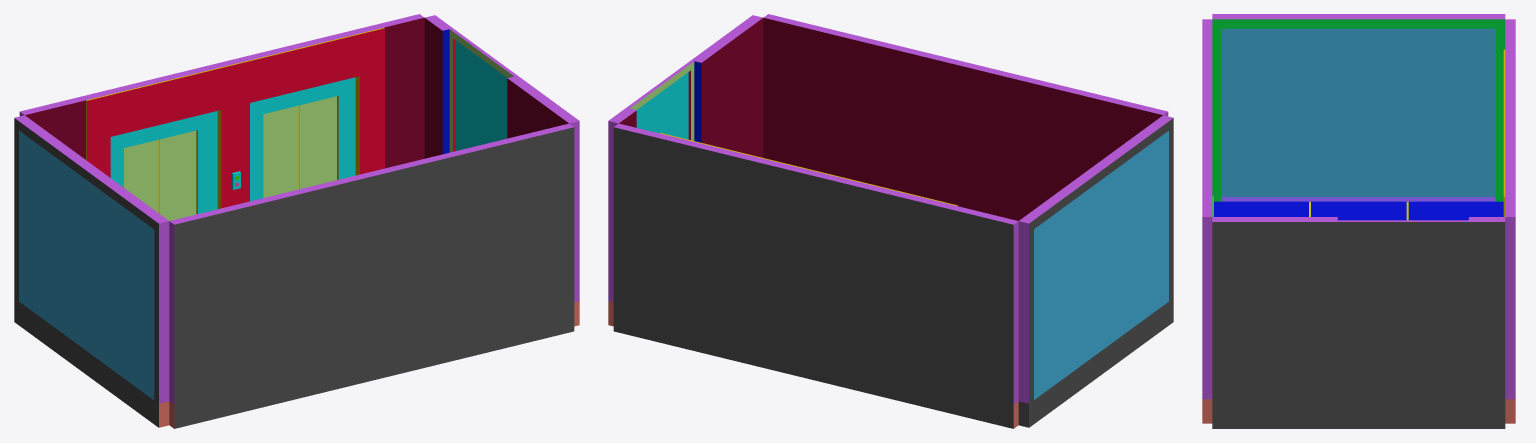
The model's file is hallElevator.fbx.
3 views of the same model, side by side, from view 1: azimuth 30°, elevation 25°; view 2: azimuth 150°, elevation 25°; view 3: azimuth 270°, elevation 25° (orthographic).
Parts seen in each view (by area): view 1: wallE, wallW, wallS, wallN, elevatorDoor1, elevetorDoor2; view 2: wallW, wallE, wallS, wallN; view 3: wallN, doorS, wallS, floor, wallW, wallE.
Part boxes in pixels (<box>): wallE: <box>169,123,574,428</box>; wallW: <box>19,14,424,214</box>; wallS: <box>14,115,169,427</box>; wallN: <box>424,15,579,326</box>; elevatorDoor1: <box>159,130,196,220</box>; elevetorDoor2: <box>124,139,159,213</box>; wallW: <box>613,123,1018,428</box>; wallE: <box>763,14,1168,220</box>; wallS: <box>1018,115,1173,427</box>; wallN: <box>608,15,763,326</box>; wallN: <box>1212,217,1505,428</box>; doorS: <box>1221,28,1495,196</box>; wallS: <box>1212,14,1505,201</box>; floor: <box>1214,201,1503,220</box>; wallW: <box>1503,19,1515,423</box>; wallE: <box>1202,19,1213,423</box>.
Size of the model in its own units: 550 by 255 by 357.
